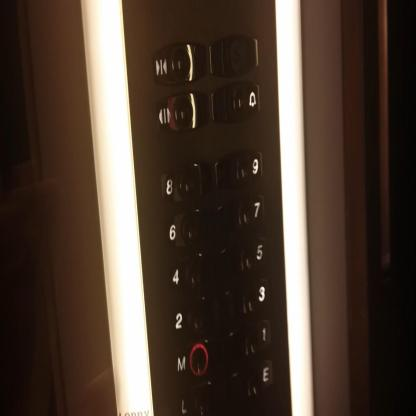1: (222, 320, 271, 360)
2: (167, 294, 216, 334)
3: (219, 282, 268, 320)
4: (164, 250, 215, 289)
5: (216, 239, 266, 277)
6: (160, 204, 214, 247)
7: (214, 190, 266, 233)
8: (158, 160, 214, 204)
9: (214, 147, 264, 188)
E: (223, 360, 273, 400)
L: (170, 378, 220, 416)
M: (168, 336, 218, 378)
alarm: (209, 81, 261, 122)
blur: (207, 31, 260, 76)
close: (150, 38, 206, 84)
open: (150, 88, 210, 134)
